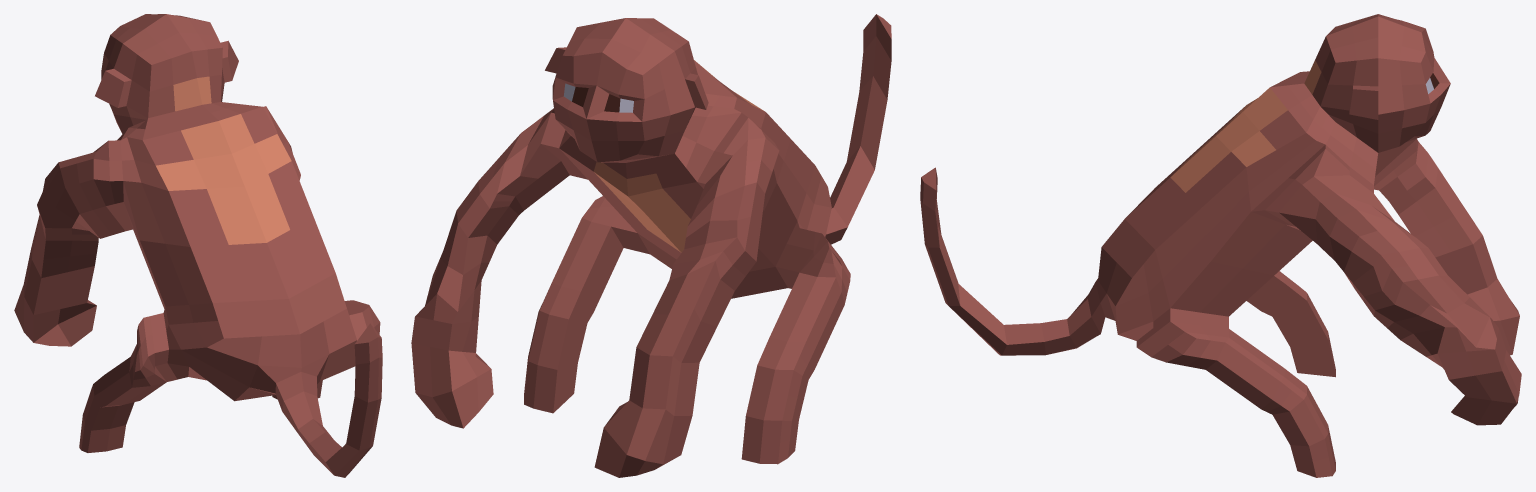
Rendered from Moneky.fbx.
3 renders of one model, left to right at view 1: azimuth 30°, elevation 25°; view 2: azimuth 150°, elevation 25°; view 3: azimuth 270°, elevation 25°, orthographic. The views are drawn at different scales.
Visible parts, largest first — view 1: Cube.002; view 2: Cube.002; view 3: Cube.002.
Boxes of the visible parts, x1,y1,x2,y2 form: Cube.002: (14,14,382,477); Cube.002: (411,14,891,477); Cube.002: (920,14,1521,477).
Bounding box in the file's own units: 234 × 340 × 460.
